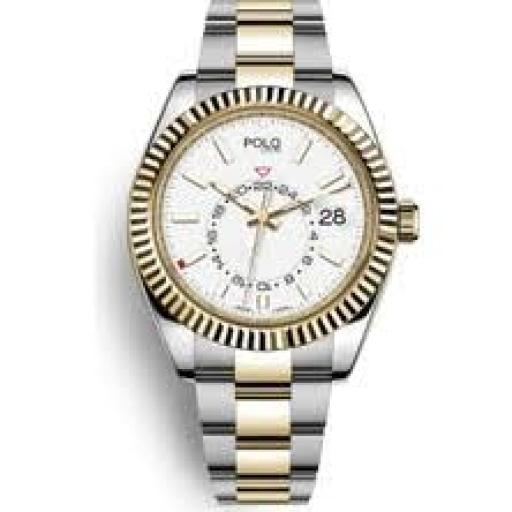KolSaati: (120, 2, 423, 512)
